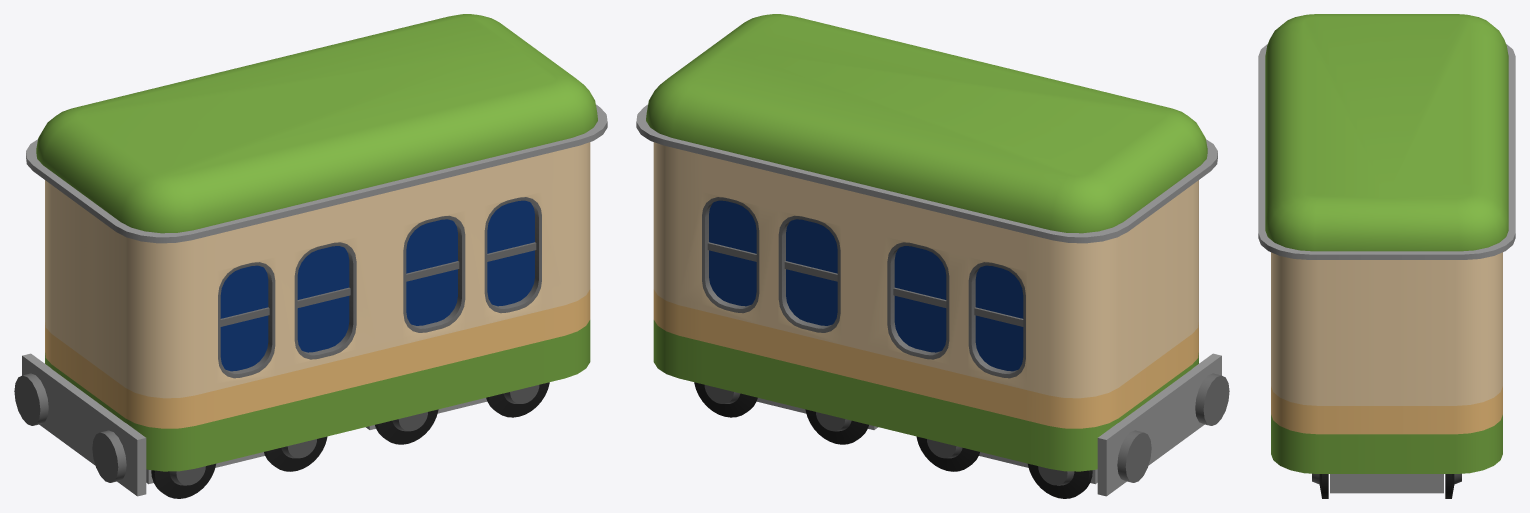
Rendered from railway_car.fbx.
3 views of the same model, side by side, from view 1: azimuth 30°, elevation 25°; view 2: azimuth 150°, elevation 25°; view 3: azimuth 270°, elevation 25° (orthographic). The views are drawn at different scales.
Parts seen in each view (by area): view 1: Cube.555; view 2: Cube.555; view 3: Cube.555.
Boxes of the visible parts, x1,y1,x2,y2 form: Cube.555: (14, 14, 607, 498); Cube.555: (636, 14, 1229, 498); Cube.555: (1258, 14, 1515, 498).
Bounding box in the file's own units: 219 × 142 × 106.
1 material, 1 textured.
